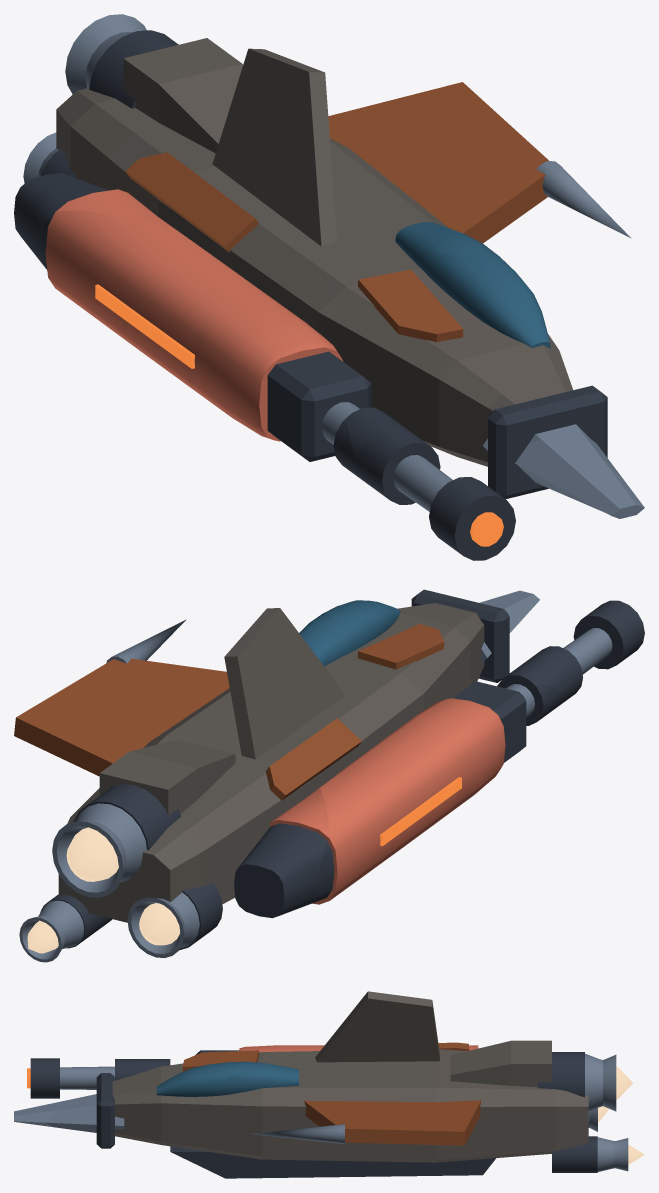
Rendered from scrap_raider_wreck.glb.
3 views of the same model, one above another, from view 1: azimuth 30°, elevation 25°; view 2: azimuth 150°, elevation 25°; view 3: azimuth 270°, elevation 25° (orthographic). The views are drawn at different scales.
Parts seen in each view (by area): view 1: scrap_raider_wreck_02, scrap_raider_wreck_05, scrap_raider_wreck_04, scrap_raider_wreck_06, scrap_raider_wreck_07, scrap_raider_wreck_00, scrap_raider_wreck_01, scrap_raider_wreck_03, scrap_raider_wreck_08; view 2: scrap_raider_wreck_00, scrap_raider_wreck_05, scrap_raider_wreck_04, scrap_raider_wreck_02, scrap_raider_wreck_07, scrap_raider_wreck_06, scrap_raider_wreck_03, scrap_raider_wreck_01, scrap_raider_wreck_08; view 3: scrap_raider_wreck_06, scrap_raider_wreck_00, scrap_raider_wreck_05, scrap_raider_wreck_03, scrap_raider_wreck_08, scrap_raider_wreck_09, scrap_raider_wreck_02, scrap_raider_wreck_01, scrap_raider_wreck_07.
Boxes of the visible parts, x1,y1,x2,y2 form: scrap_raider_wreck_02: [325, 249, 553, 456]; scrap_raider_wreck_05: [38, 48, 396, 230]; scrap_raider_wreck_04: [37, 210, 291, 394]; scrap_raider_wreck_06: [284, 105, 631, 277]; scrap_raider_wreck_07: [189, 269, 372, 480]; scrap_raider_wreck_00: [14, 14, 240, 266]; scrap_raider_wreck_01: [355, 406, 644, 560]; scrap_raider_wreck_03: [328, 82, 562, 172]; scrap_raider_wreck_08: [457, 343, 625, 497]; scrap_raider_wreck_00: [19, 753, 317, 962]; scrap_raider_wreck_05: [128, 608, 329, 872]; scrap_raider_wreck_04: [312, 706, 460, 904]; scrap_raider_wreck_02: [323, 600, 560, 702]; scrap_raider_wreck_07: [381, 684, 561, 813]; scrap_raider_wreck_06: [112, 613, 388, 718]; scrap_raider_wreck_03: [14, 657, 170, 776]; scrap_raider_wreck_01: [483, 590, 644, 709]; scrap_raider_wreck_08: [398, 589, 498, 682]; scrap_raider_wreck_06: [221, 1009, 397, 1177]; scrap_raider_wreck_00: [472, 1040, 644, 1175]; scrap_raider_wreck_05: [353, 991, 515, 1176]; scrap_raider_wreck_03: [341, 1102, 502, 1160]; scrap_raider_wreck_08: [46, 1076, 188, 1154]; scrap_raider_wreck_09: [177, 1111, 334, 1178]; scrap_raider_wreck_02: [126, 1050, 281, 1123]; scrap_raider_wreck_01: [14, 1058, 137, 1127]; scrap_raider_wreck_07: [195, 1045, 307, 1055].
Bounding box in the file's own units: 2.94 × 2.06 × 6.86.
